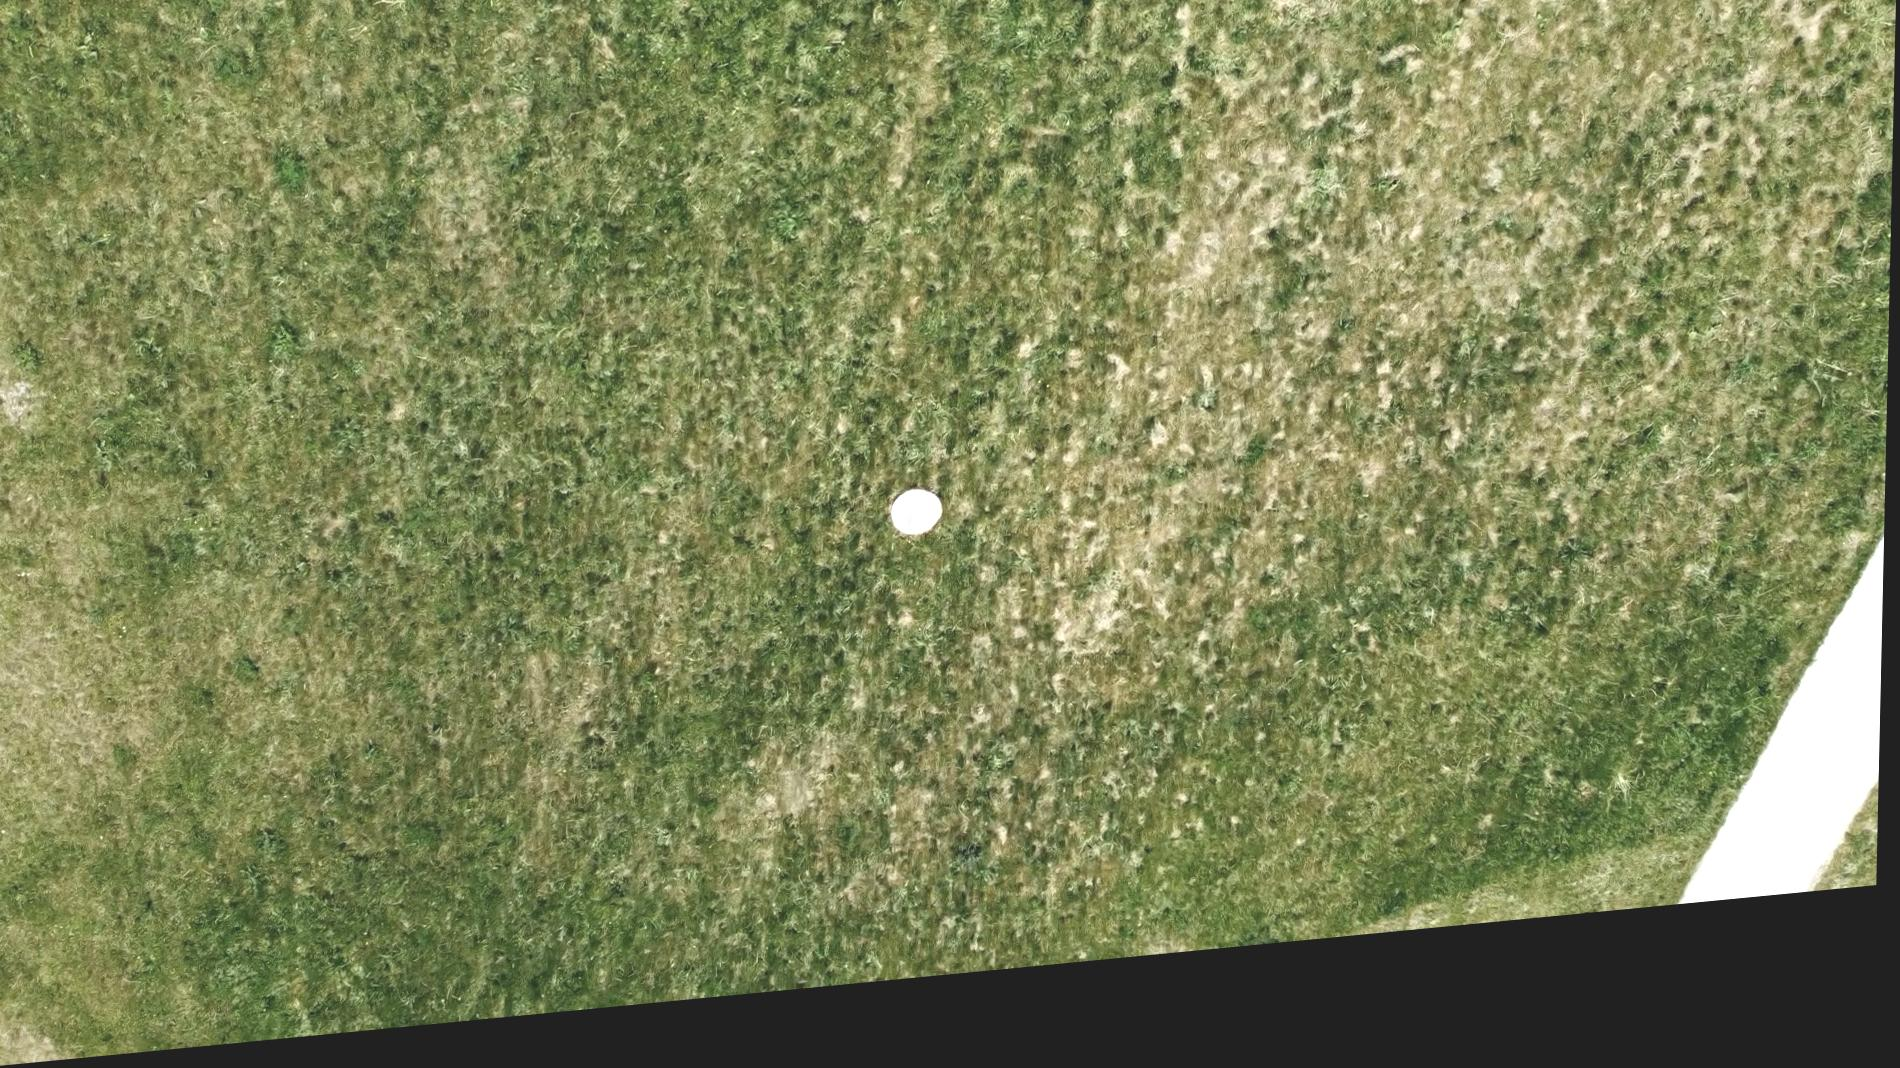Red: (889, 503, 949, 560)
